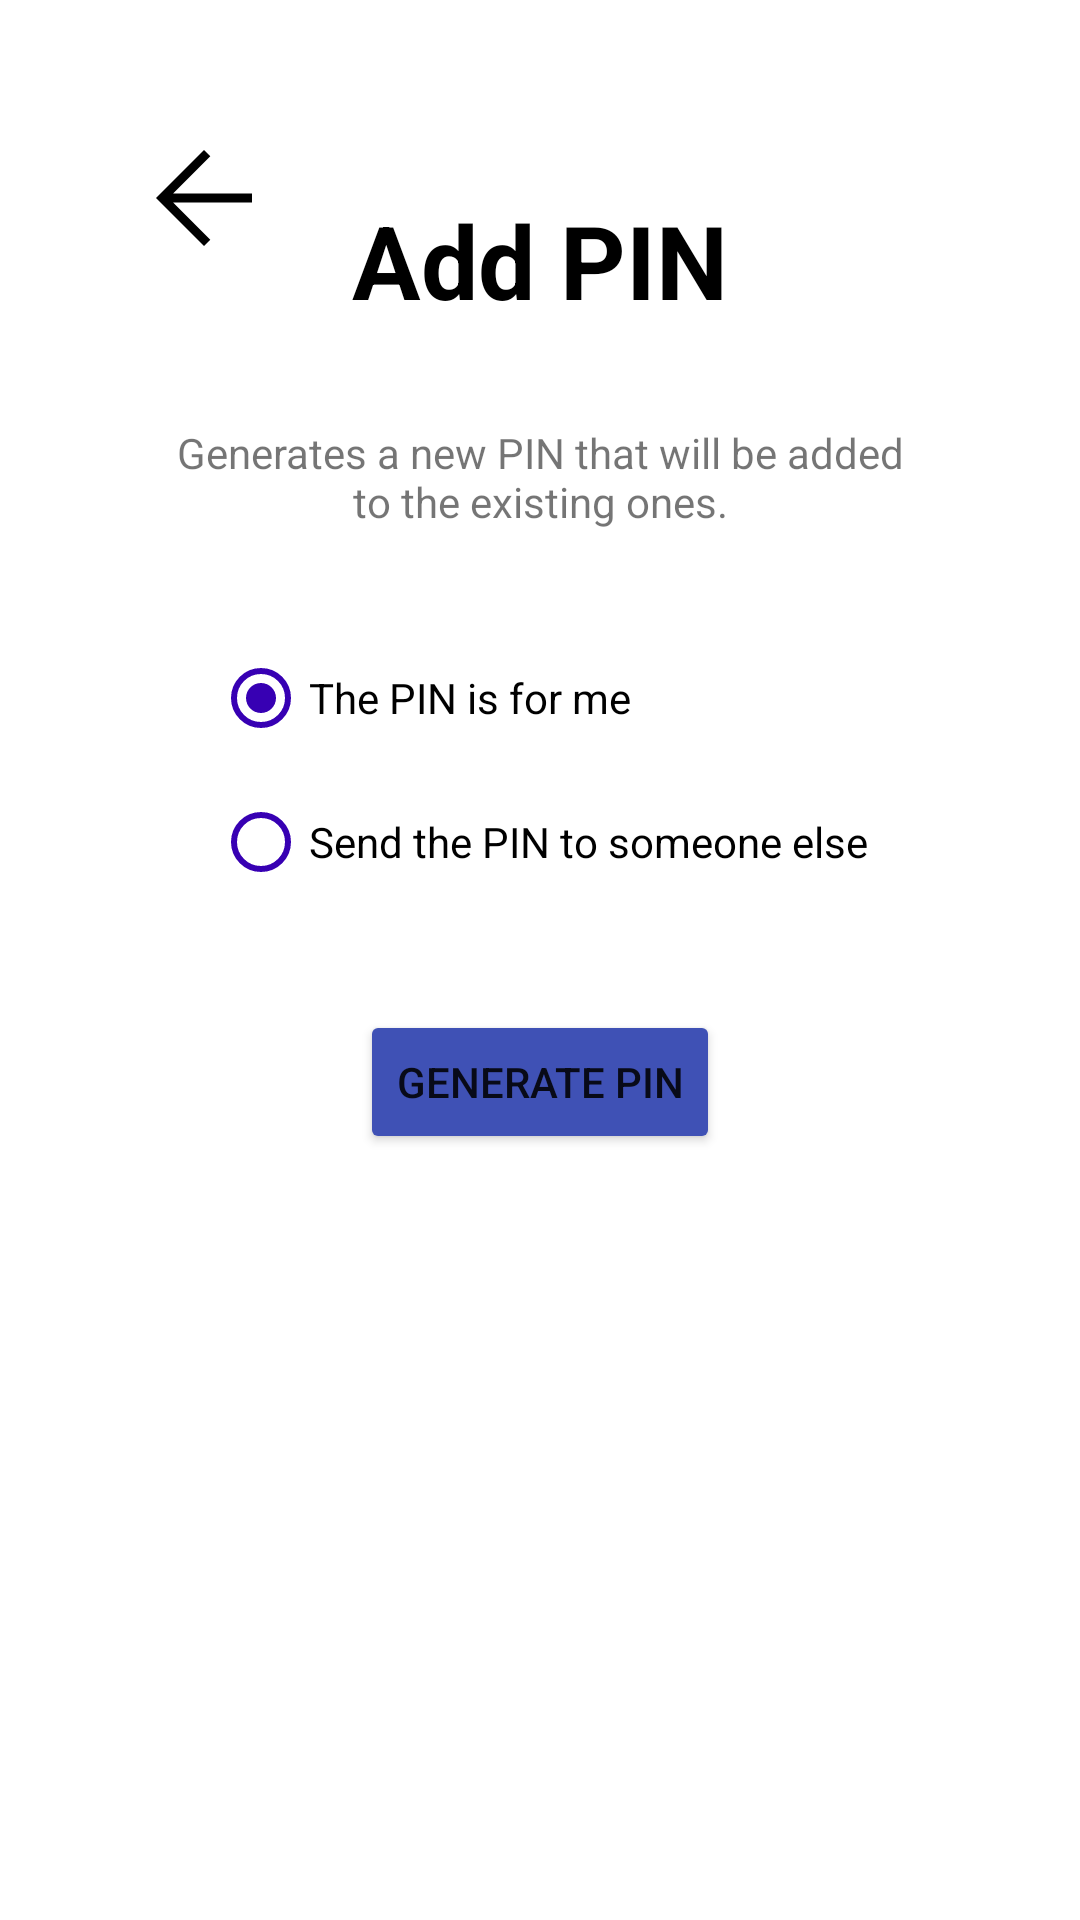

Icons on this 1080 x 1920 Android screen, each with the point to tap as [x,y]:
Back: [204,198]
